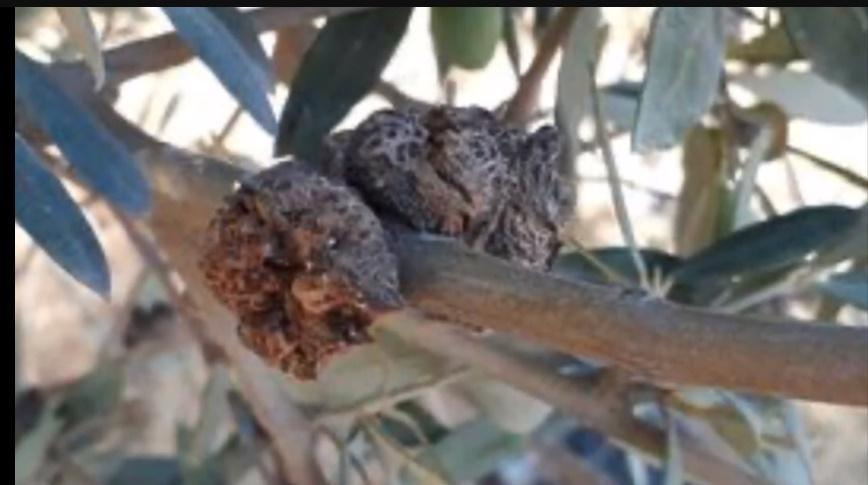Tuberculosis: (192, 150, 412, 390), (360, 96, 568, 298)
